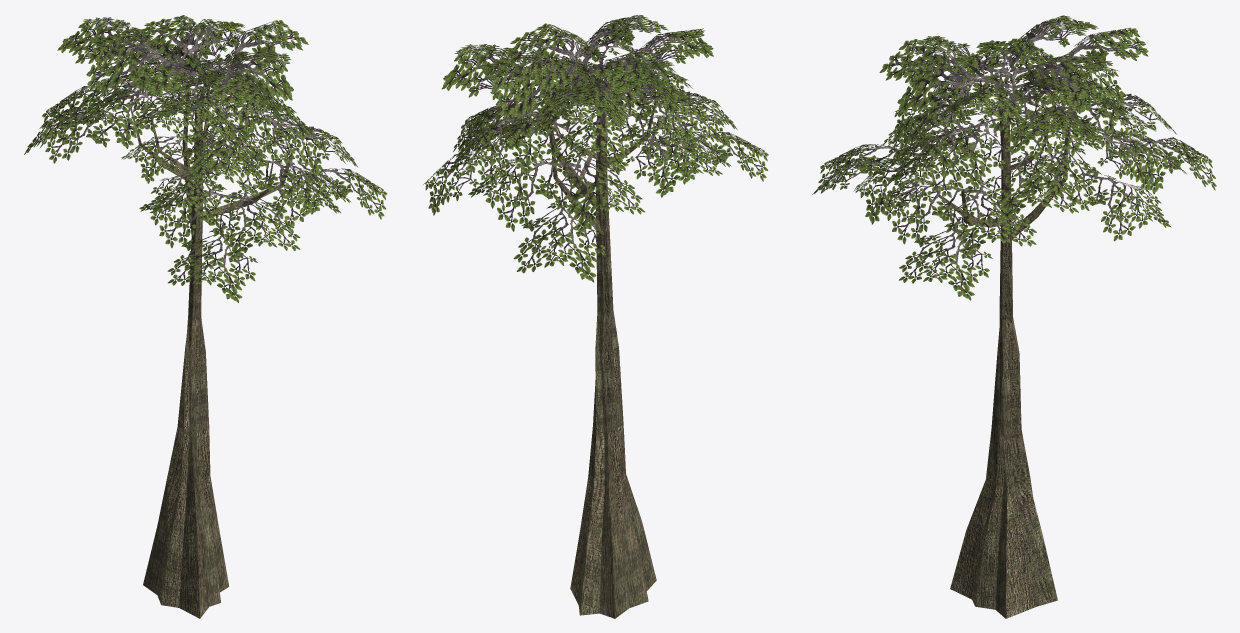
Rendered from tropic_forest_biome_tree_1.glb.
The picture shows the model from 3 angles, left to right: view 1: azimuth 30°, elevation 25°; view 2: azimuth 150°, elevation 25°; view 3: azimuth 270°, elevation 25°; orthographic projection. The views are drawn at different scales.
Visible parts, largest first — view 1: tropic_forest_biome_tree_1; view 2: tropic_forest_biome_tree_1; view 3: tropic_forest_biome_tree_1.
Boxes of the visible parts, x1,y1,x2,y2 form: tropic_forest_biome_tree_1: (24,15,387,618); tropic_forest_biome_tree_1: (423,15,768,618); tropic_forest_biome_tree_1: (812,15,1216,618).
Size of the model in its own units: 6.84 by 11.62 by 8.04.
Materials: 1 (1 with a texture image).
